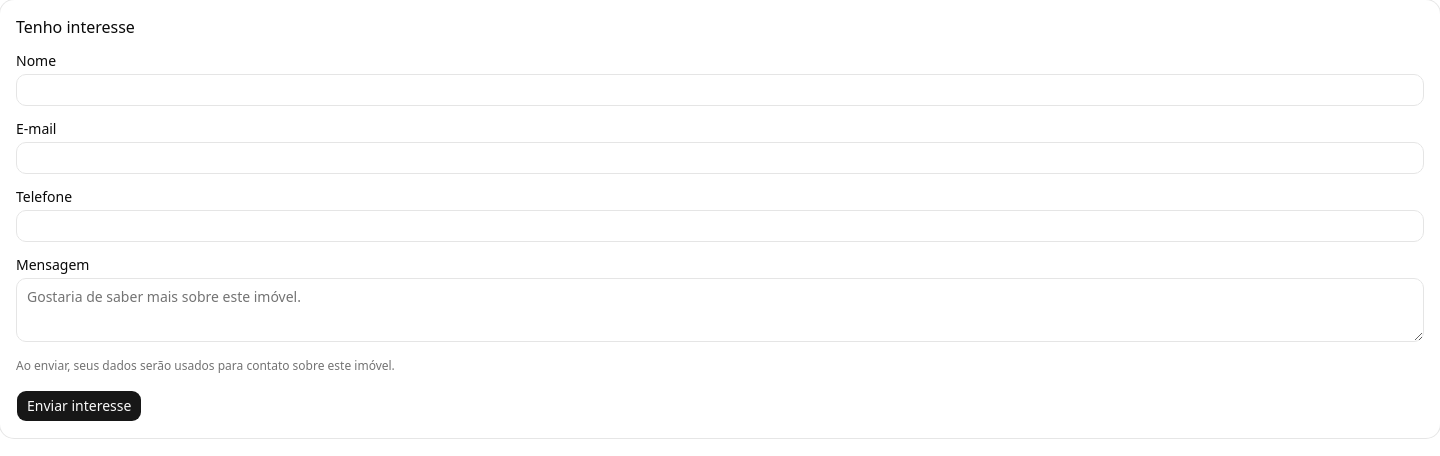
Test: PropertyInterestForm — submit › shows a success state after 201 and does not navigate away
The width and height of the screenshot is (1440, 456).
Type "Maria Souza" into the field labelled "Nome". click: (720, 90)
box: x1=16 y1=74 x2=1424 y2=106
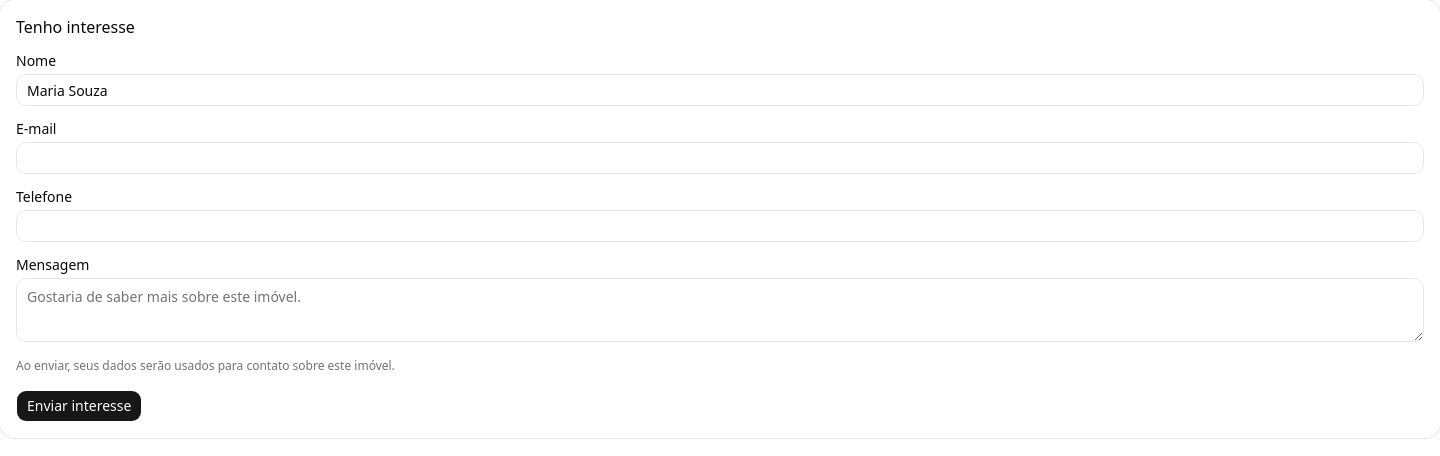
Type "maria@example.com" into the field labelled "E-mail". click: (720, 158)
box: x1=16 y1=142 x2=1424 y2=174
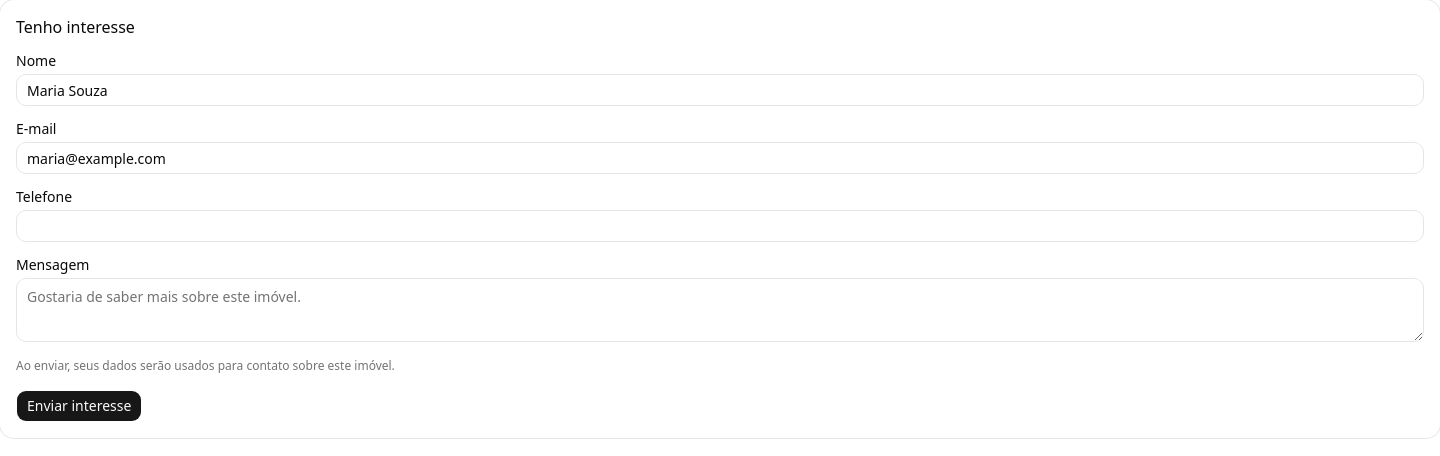
Click the button "Enviar interesse". click: (79, 406)
box: x1=16 y1=390 x2=142 y2=422
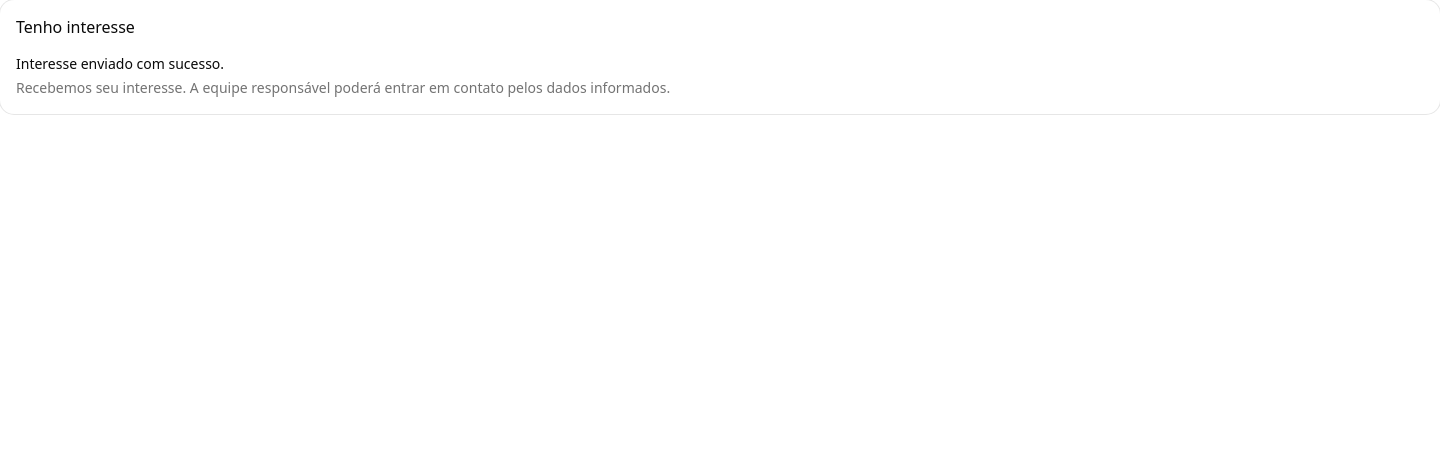
Result: the text "Interesse enviado com sucesso." is shown at x1=16 y1=54 x2=224 y2=73
Result: the text "Recebemos seu interesse. A equipe responsável poderá entrar em contato pelos dados informados." is shown at x1=16 y1=78 x2=670 y2=97
Result: the label labelled "Nome" is gone
